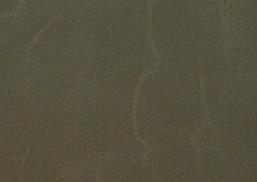fissura: (125, 2, 166, 158), (212, 0, 243, 60)
